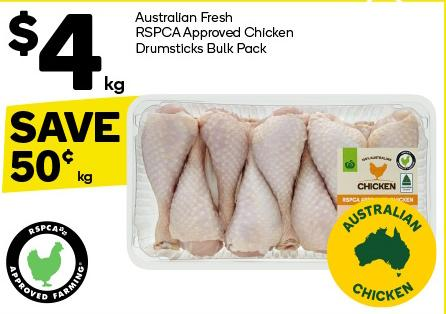description_block: (133, 8, 300, 63)
price_main: (2, 6, 129, 95)
product_image_block: (130, 91, 438, 281)
promo_text_block: (2, 98, 135, 196)
